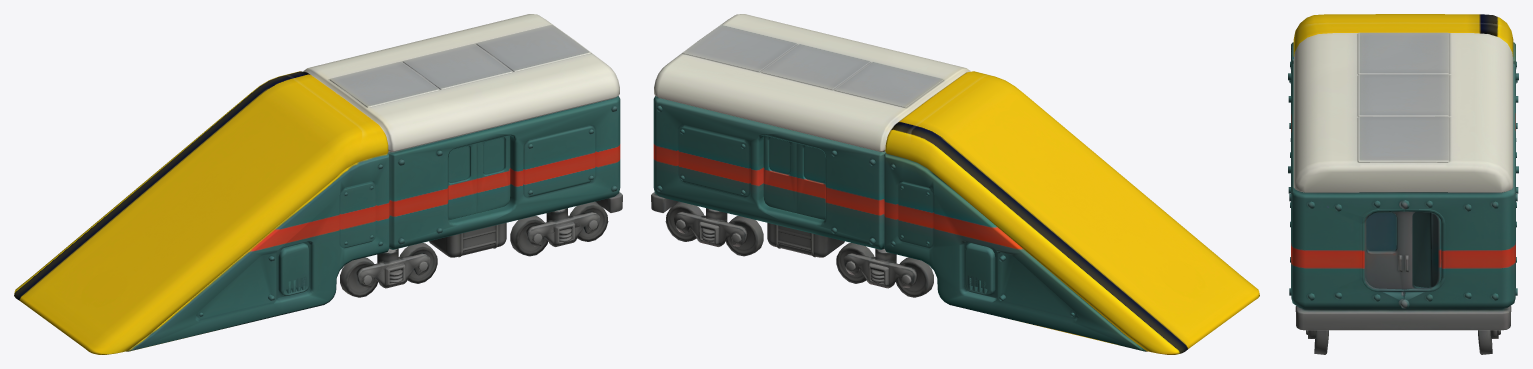
Rendered from train_metro.glb.
The picture shows the model from 3 angles, left to right: view 1: azimuth 30°, elevation 25°; view 2: azimuth 150°, elevation 25°; view 3: azimuth 270°, elevation 25°; orthographic projection. The views are drawn at different scales.
Parts seen in each view (by area): view 1: tripo_node_77c6091c-0ce6-4ae0-8e93-6b05990da594; view 2: tripo_node_77c6091c-0ce6-4ae0-8e93-6b05990da594; view 3: tripo_node_77c6091c-0ce6-4ae0-8e93-6b05990da594.
Boxes of the visible parts, x1,y1,x2,y2 form: tripo_node_77c6091c-0ce6-4ae0-8e93-6b05990da594: (14,14,622,354); tripo_node_77c6091c-0ce6-4ae0-8e93-6b05990da594: (651,14,1259,354); tripo_node_77c6091c-0ce6-4ae0-8e93-6b05990da594: (1288,14,1518,354).
Size of the model in its own units: 0.9995 by 0.311 by 0.3208.
Materials: 1 (1 with a texture image).
